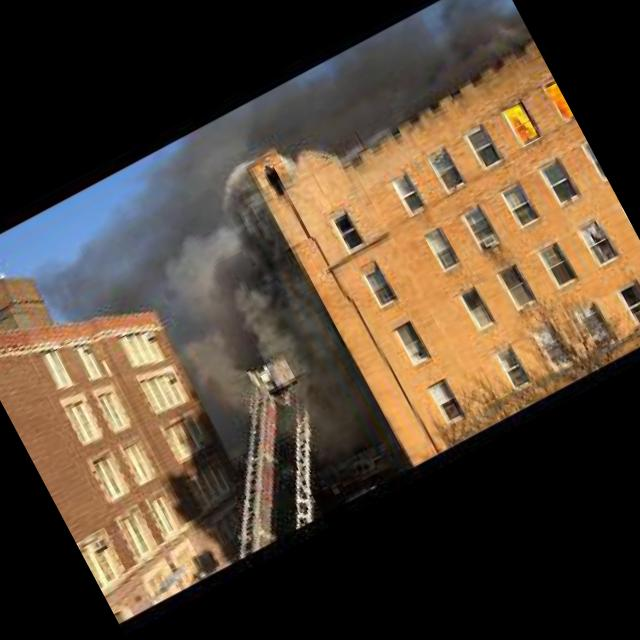fire: (494, 90, 550, 154), (536, 74, 578, 132)
smoke: (32, 110, 406, 544), (273, 0, 535, 162)
